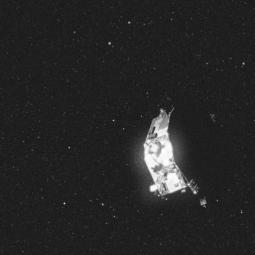lisa_pathfinder: (130, 85, 239, 221)
